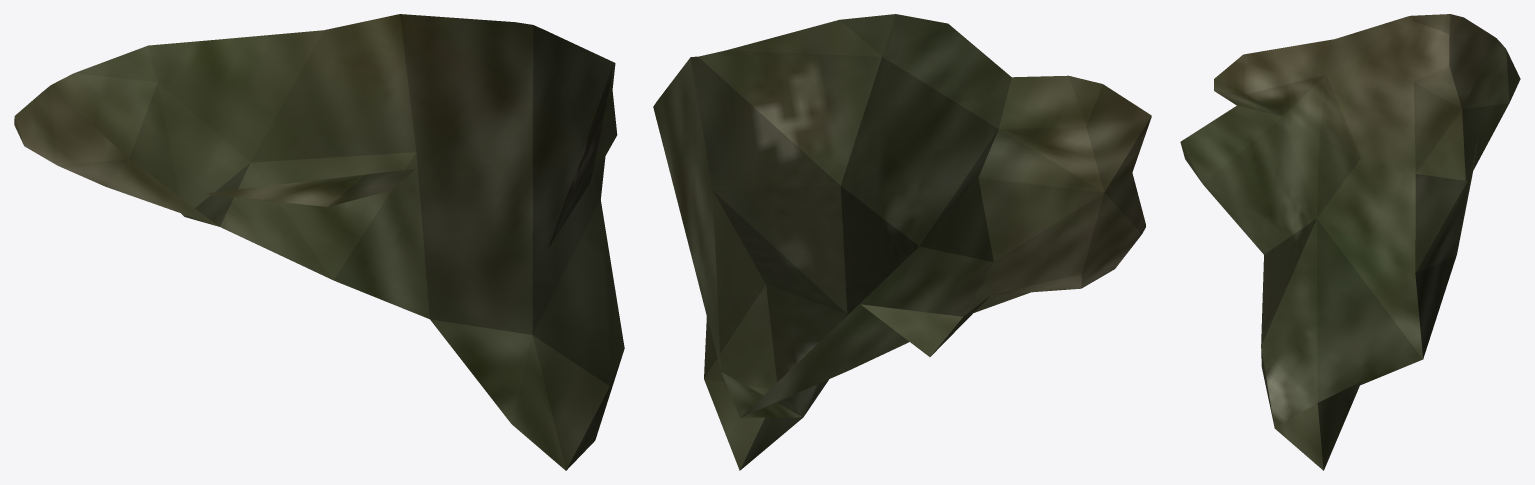
3 renders of one model, left to right at view 1: azimuth 30°, elevation 25°; view 2: azimuth 150°, elevation 25°; view 3: azimuth 270°, elevation 25°, orthographic. The views are drawn at different scales.
Bounding box in the file's own units: 0.7007 × 0.516 × 0.5477.
Materials: 1 (1 with a texture image).
